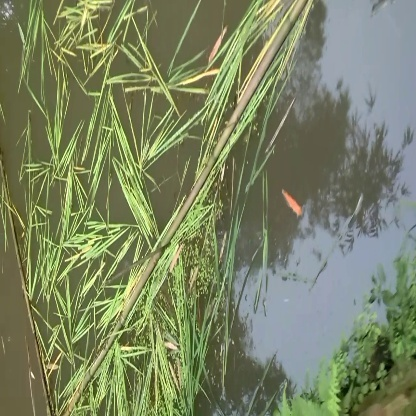grass: (53, 91, 152, 236)
